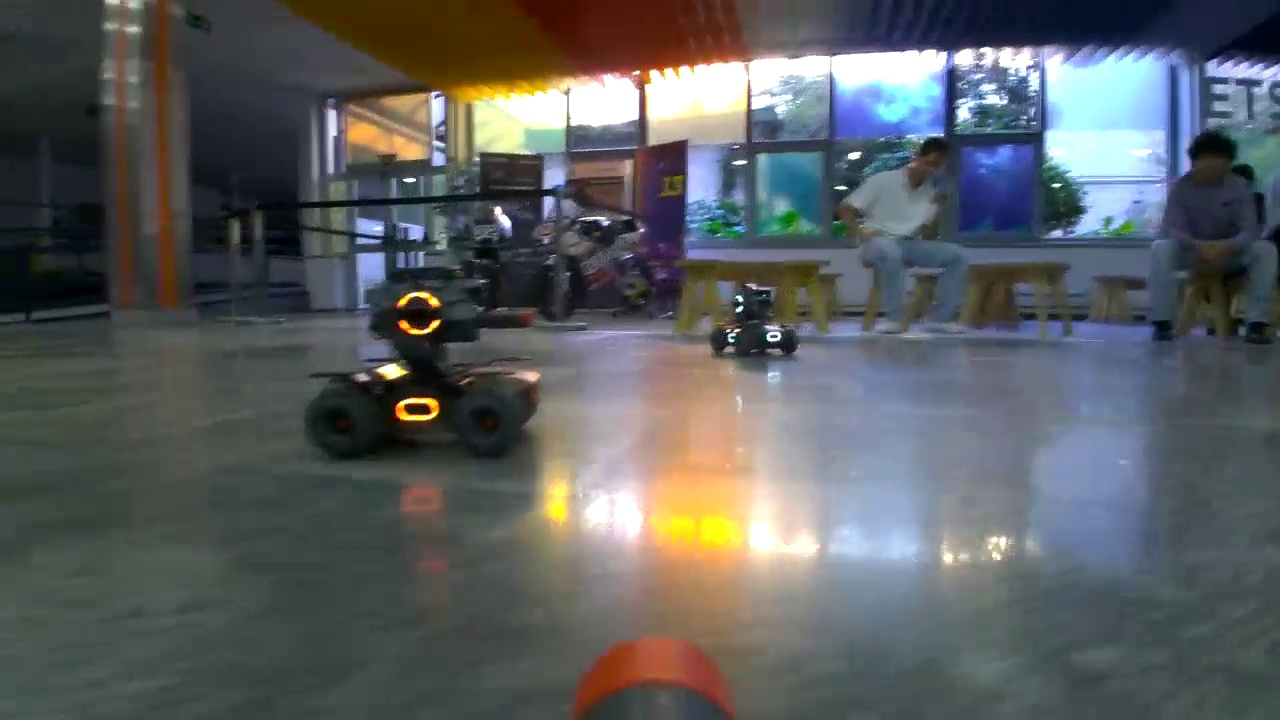robot: (302, 290, 540, 455), (710, 282, 800, 355)
